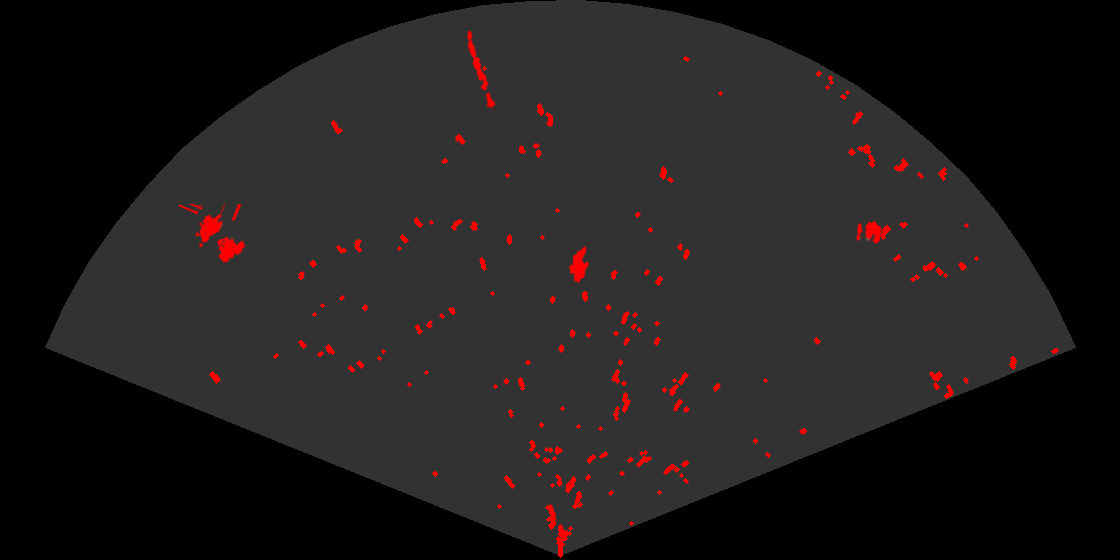AUV: (567, 244, 591, 285)
ball: (855, 220, 883, 246)
cage: (179, 204, 247, 264)
chain: (465, 28, 497, 113)
